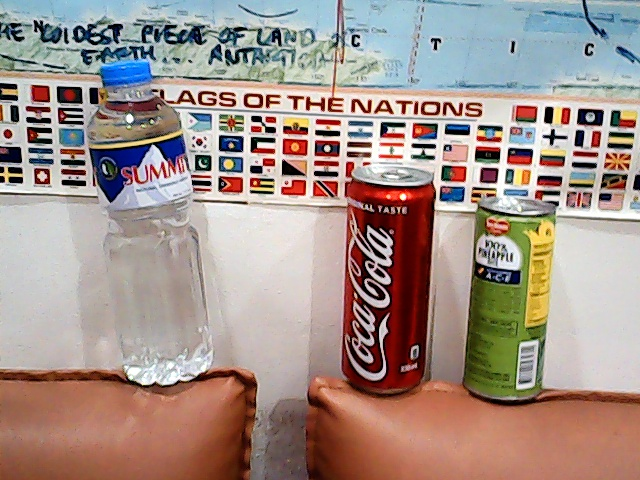Cola: (342, 153, 437, 407)
Pine Juice: (456, 187, 562, 408)
Summit Water: (92, 65, 213, 379)
